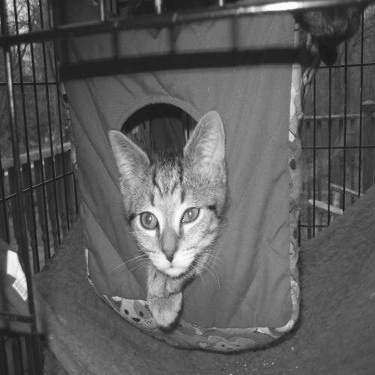cat: (78, 87, 246, 335), (253, 1, 372, 78)
